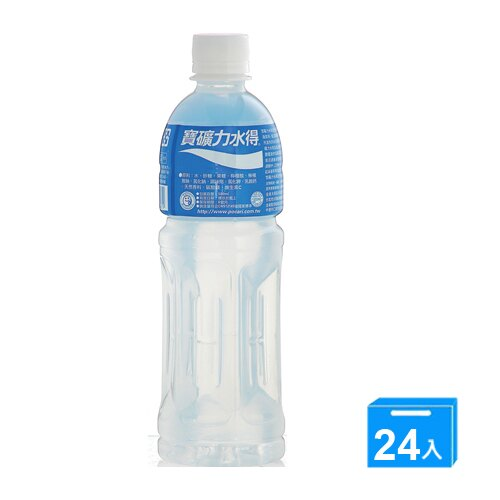POCARI SWEAT: (158, 32, 288, 468)
